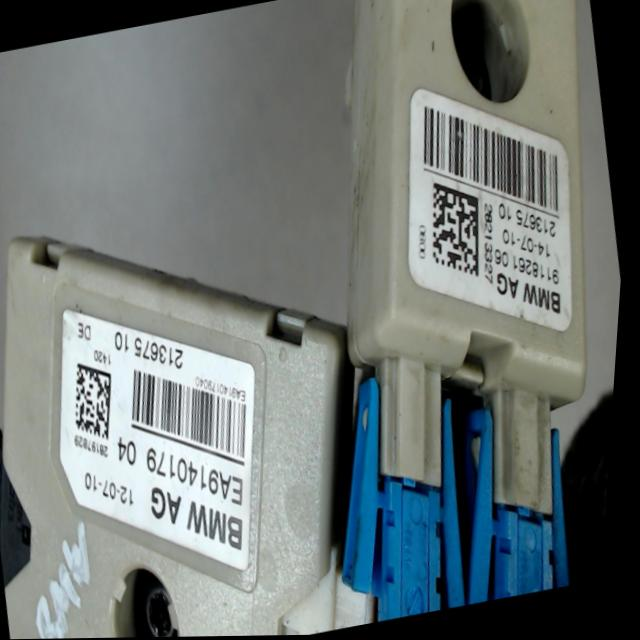datamatrix: (422, 176, 495, 285), (70, 357, 129, 447)
